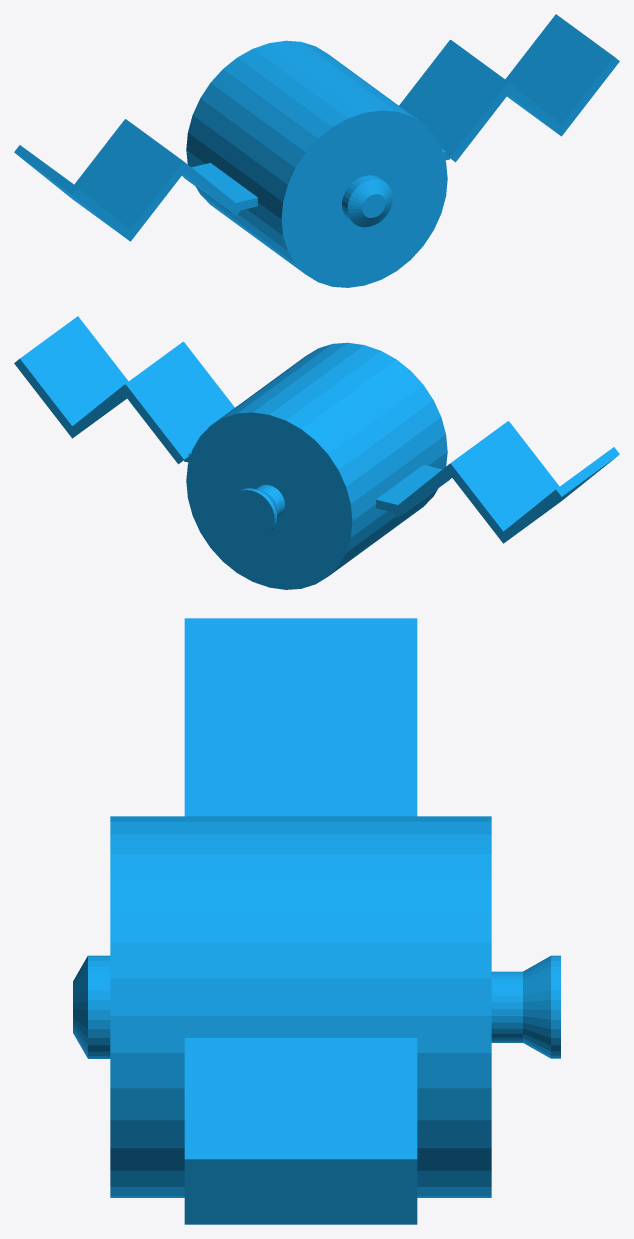
The model's file is Mir.fbx.
The picture shows the model from 3 angles, top to bottom: view 1: azimuth 30°, elevation 25°; view 2: azimuth 150°, elevation 25°; view 3: azimuth 270°, elevation 25°; orthographic projection. The views are drawn at different scales.
Visible parts, largest first — view 1: Cylinder; view 2: Cylinder; view 3: Cylinder.
Part boxes in pixels (x1=…): Cylinder: x1=14, y1=14, x2=619, y2=287; Cylinder: x1=14, y1=316, x2=619, y2=589; Cylinder: x1=73, y1=618, x2=560, y2=1224.
Bounding box in the file's own units: 198 × 59.55 × 76.21.
